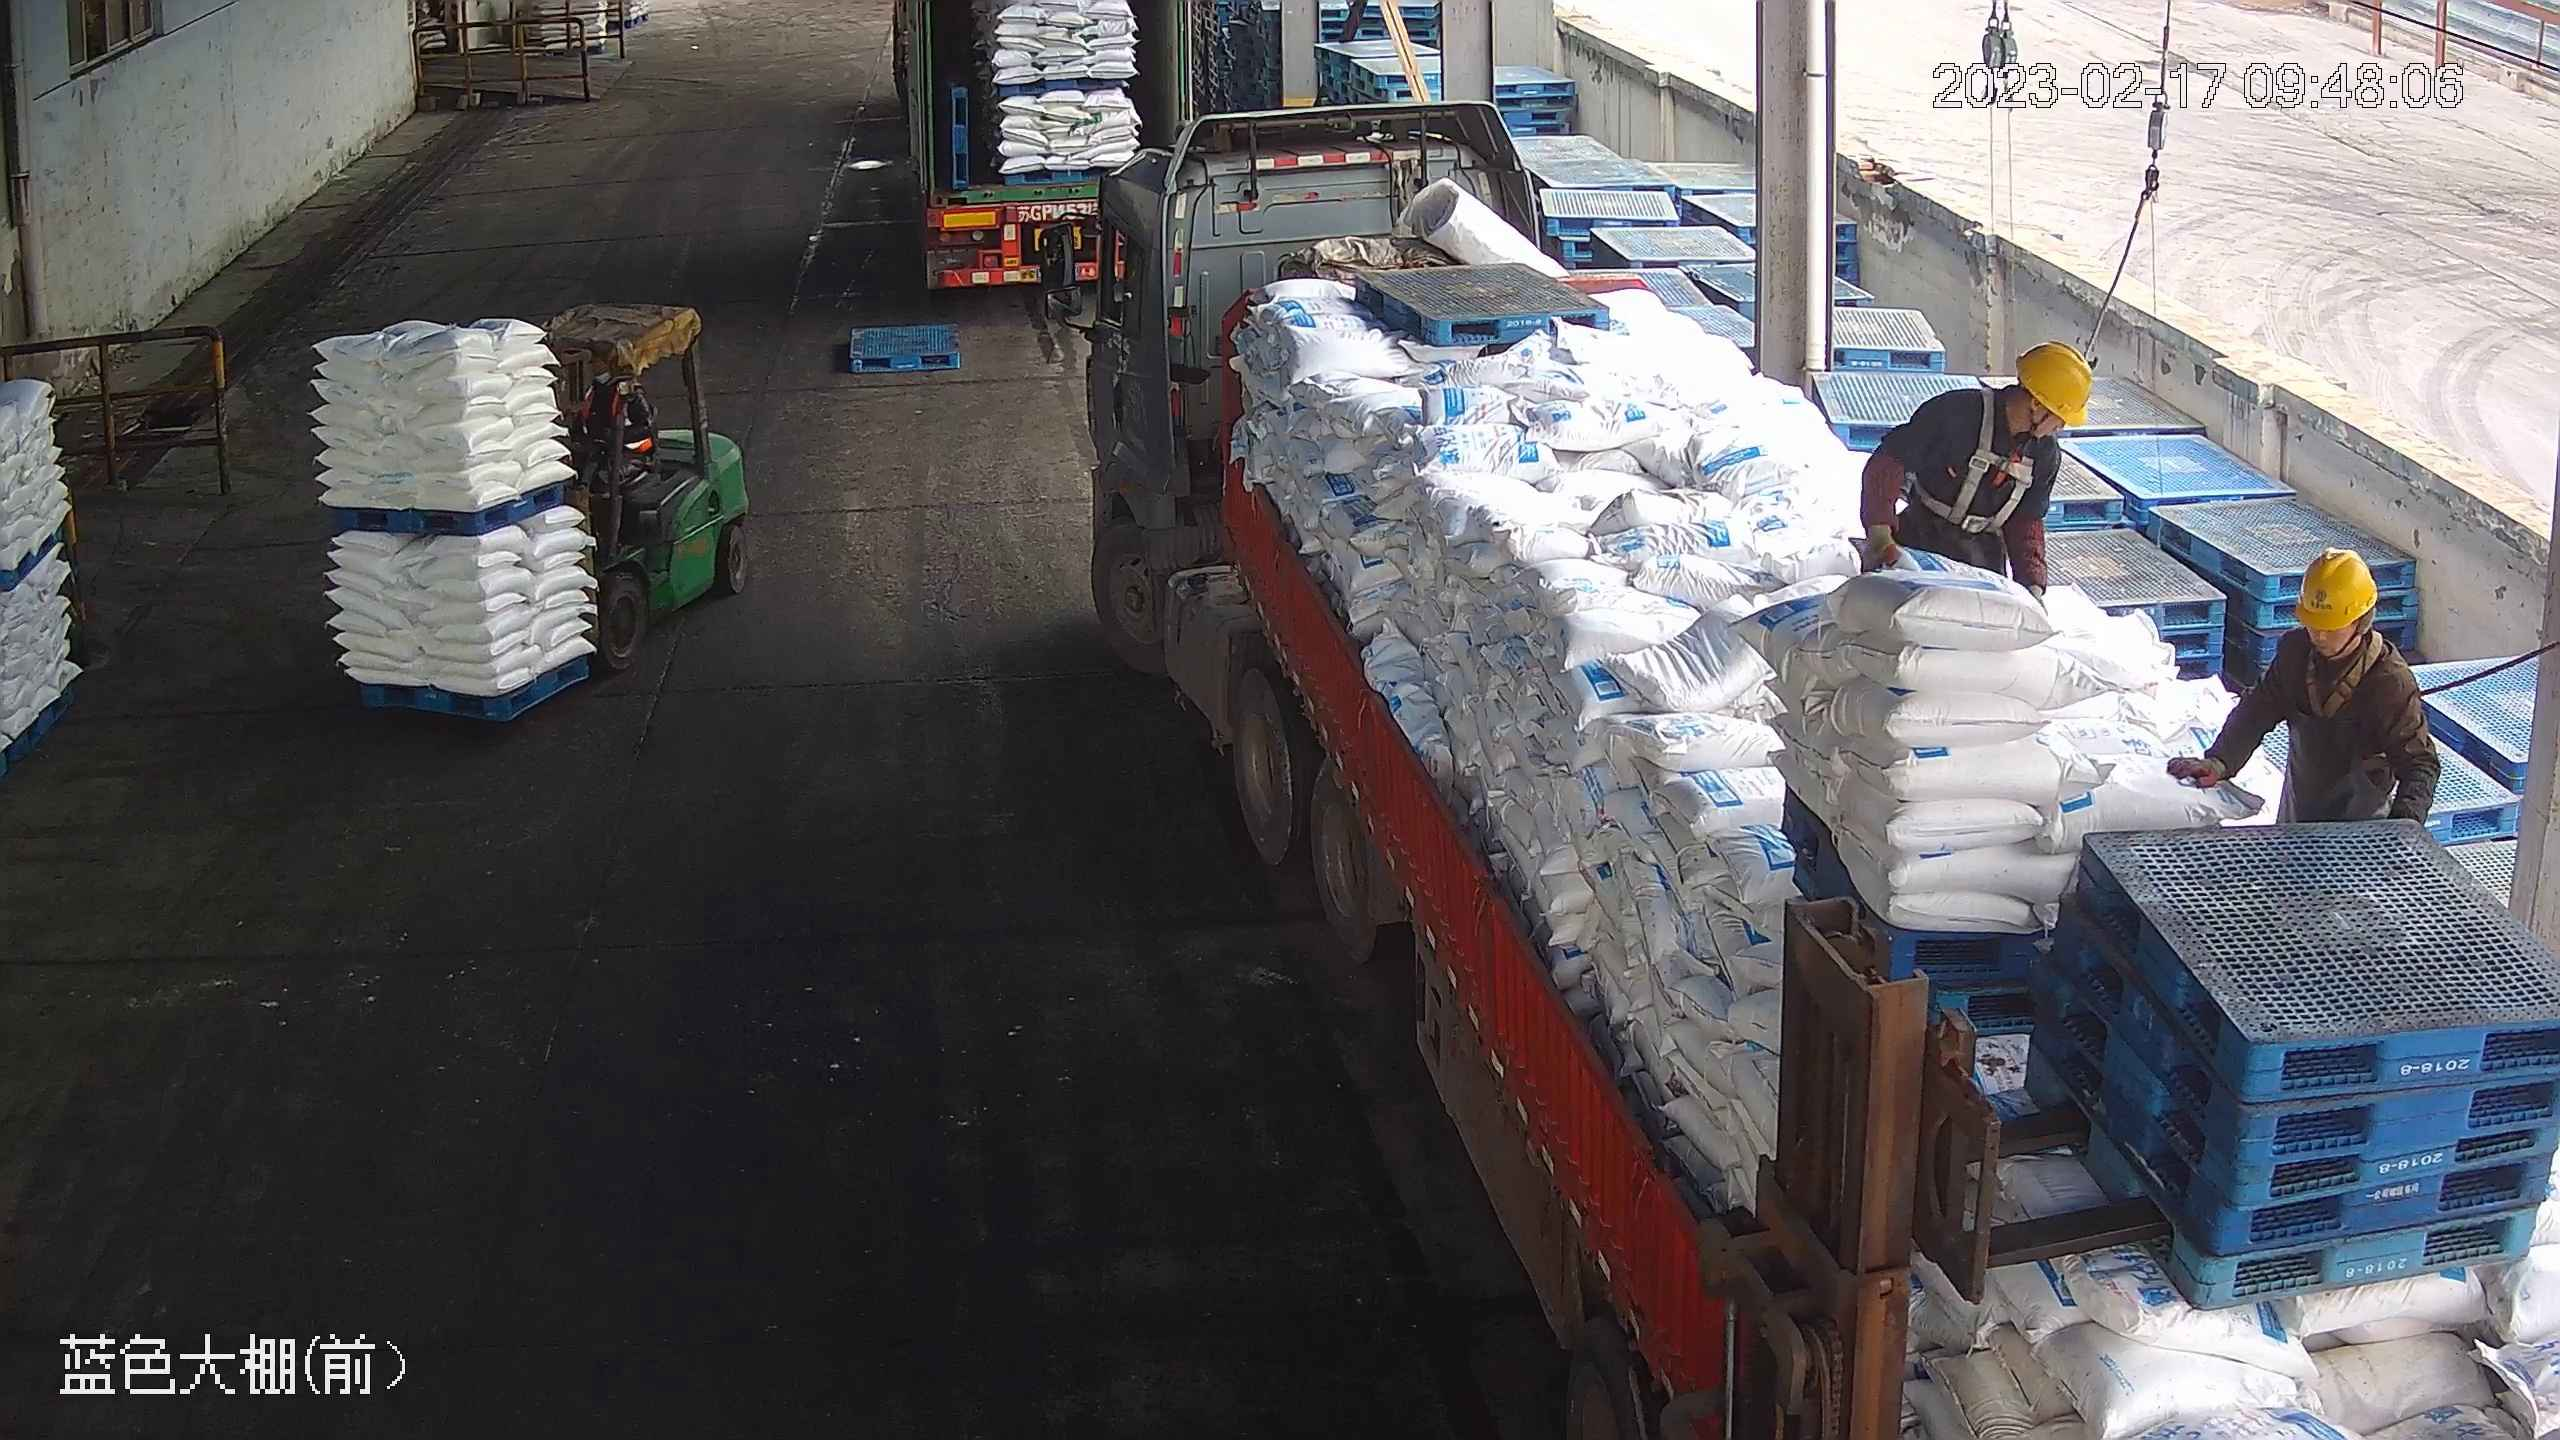belt: (1929, 388, 2041, 534), (2292, 632, 2400, 720)
head: (2258, 544, 2415, 711), (1922, 339, 2094, 475)
helmet: (2289, 543, 2377, 631), (2015, 340, 2097, 430)
people: (2165, 544, 2434, 838)
truck: (1073, 97, 2559, 1440), (883, 1, 1220, 306)
